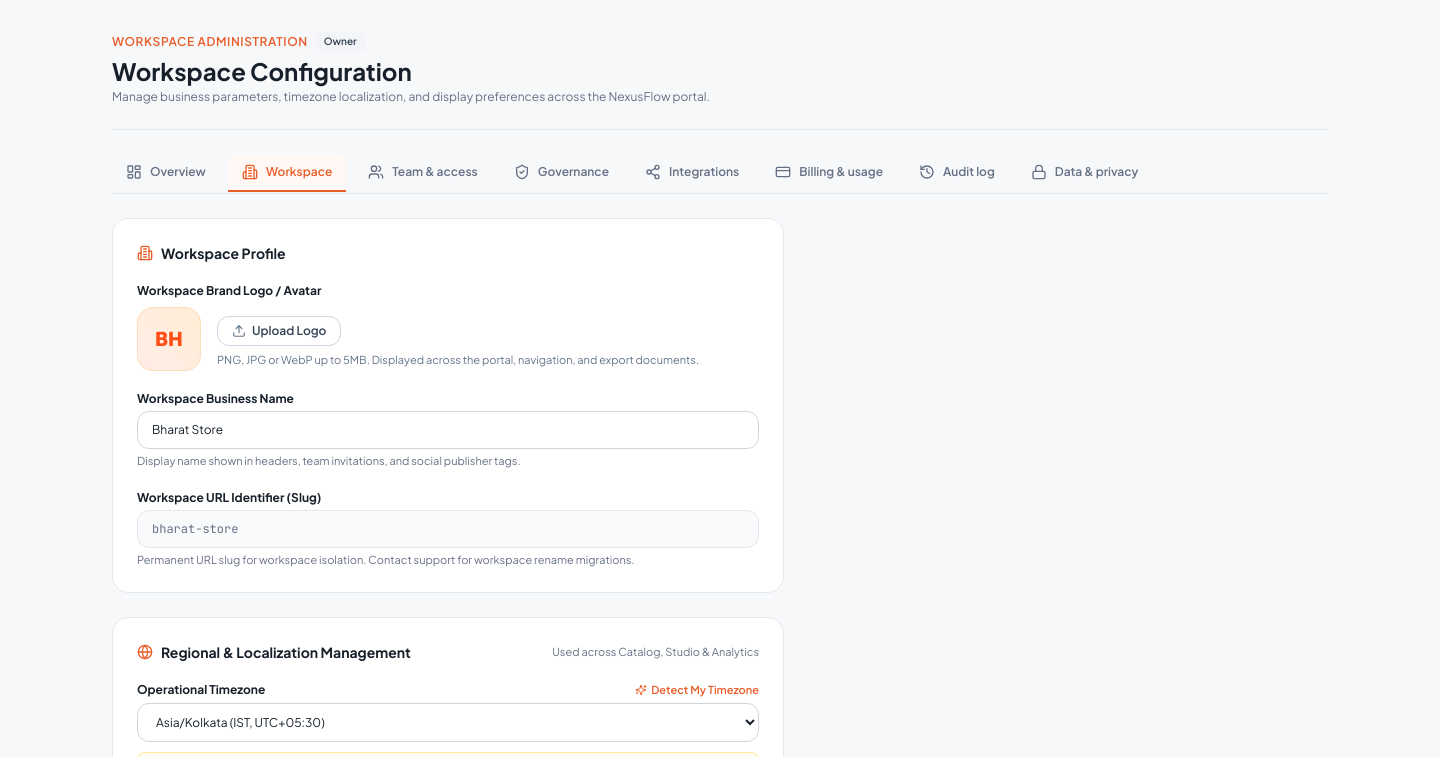
Test: Workspace Regional & Localization Settings › detects browser timezone on button click
Click the button "Detect My Timezone" at (697, 690), box [635, 682, 759, 698]
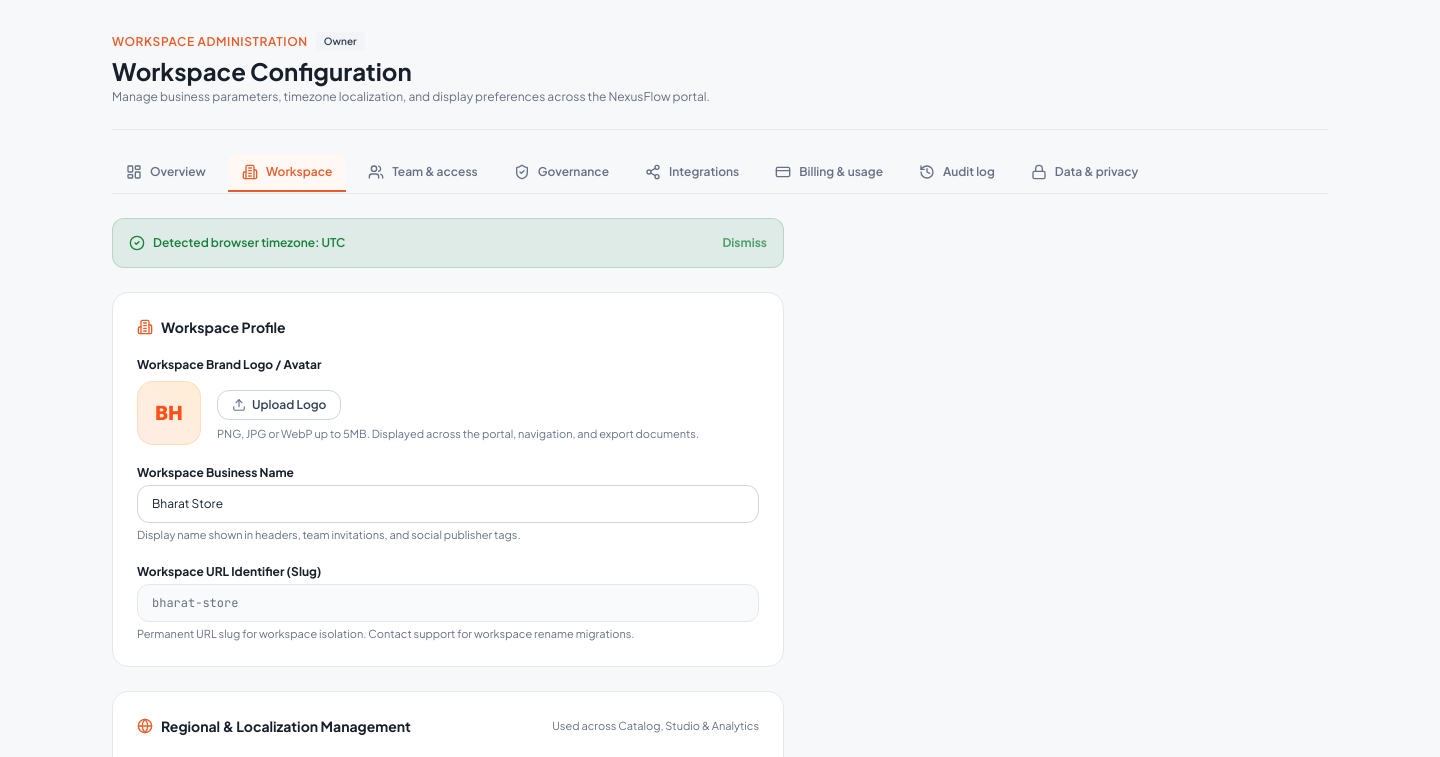
Result: the text "Detected browser timezone: UTC" is shown at [153, 235, 345, 251]
